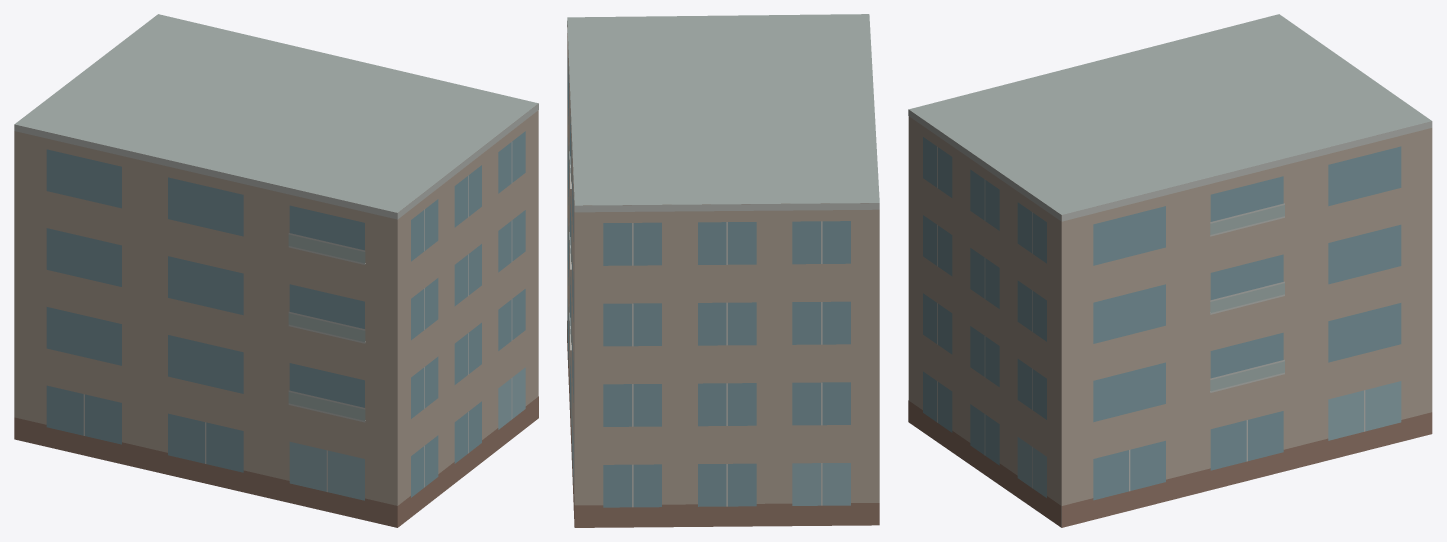
File: survey-upis-32750294.glb
3 views of the same model, side by side, from view 1: azimuth 30°, elevation 25°; view 2: azimuth 150°, elevation 25°; view 3: azimuth 270°, elevation 25° (orthographic). The views are drawn at different scales.
Parts seen in each view (by area): view 1: survey-upis-32750294.tmp; view 2: survey-upis-32750294.tmp; view 3: survey-upis-32750294.tmp.
Part boxes in pixels (x1=…): survey-upis-32750294.tmp: x1=14, y1=14, x2=538, y2=527; survey-upis-32750294.tmp: x1=567, y1=14, x2=879, y2=527; survey-upis-32750294.tmp: x1=908, y1=14, x2=1432, y2=527.
Size of the model in its own units: 15.95 by 11.56 by 17.55.
